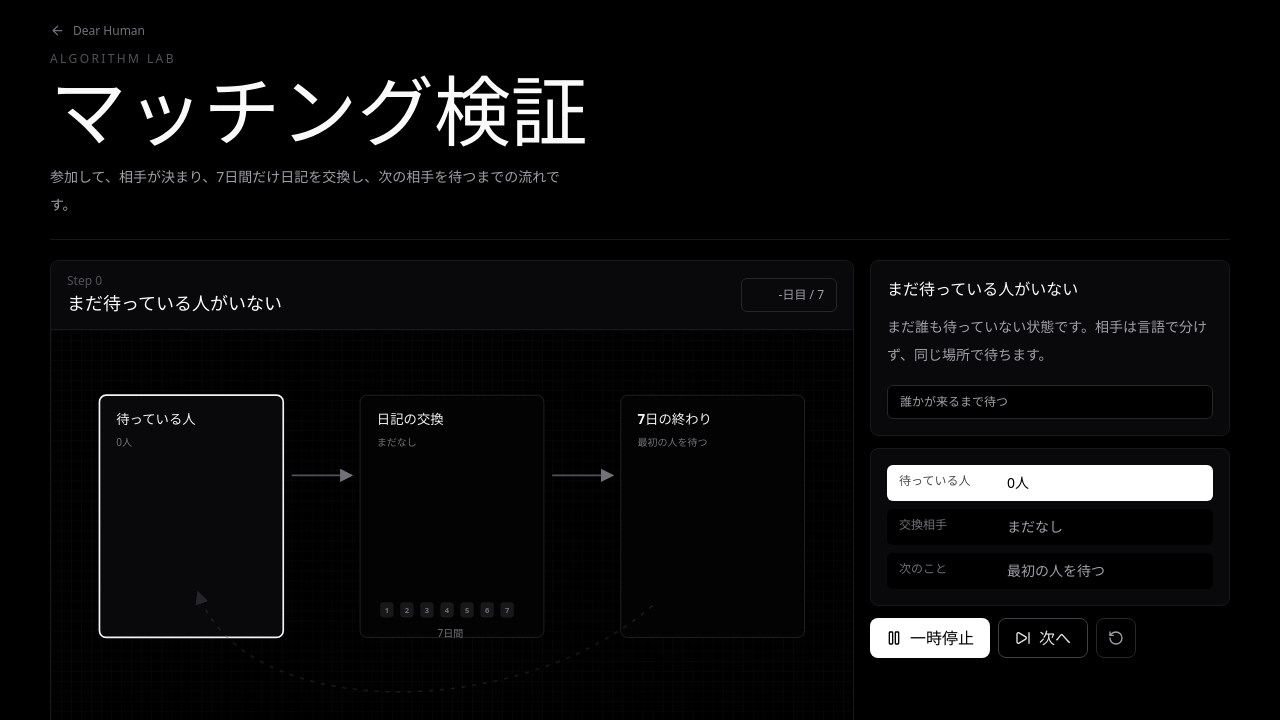
Test: Dear Human MVP › shows the matching algorithm lab on a separate route
This screenshot has width=1280, height=720.
expect the heading "マッチング検証" is shown: met, box x1=50 y1=72 x2=588 y2=156
expect the heading "まだ待っている人がいない" below "Step" is shown: met, box x1=67 y1=291 x2=282 y2=315
Click the button "次へ". click: x=1043, y=638
box: x1=998 y1=618 x2=1088 y2=658
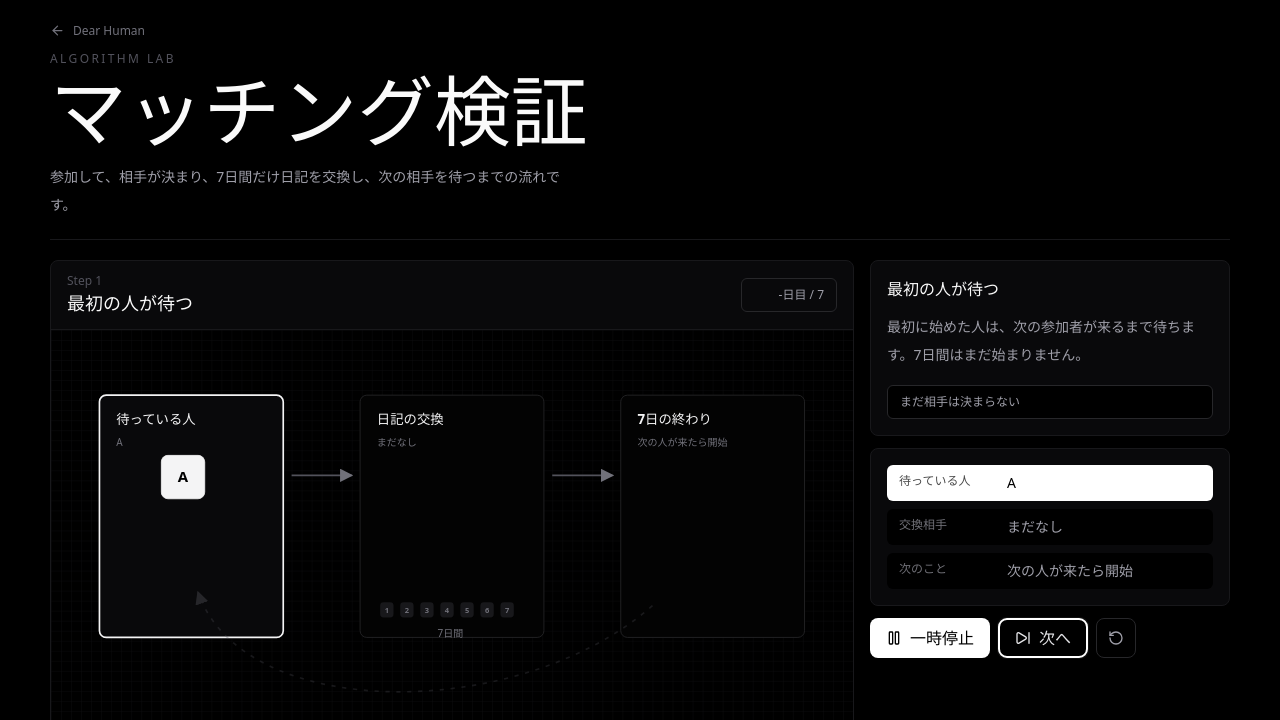
expect the heading "最初の人が待つ" below "Step" is shown: met, box x1=67 y1=291 x2=193 y2=315
